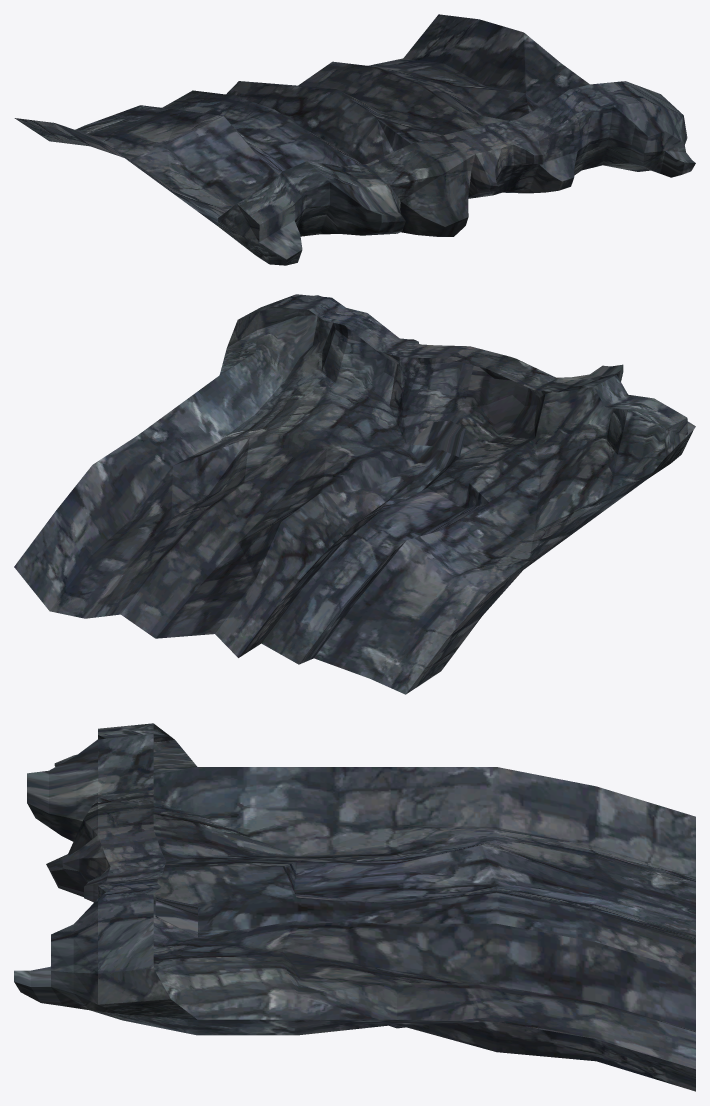
The model's file is juqing_fuben_286_rock_v02.obj.
3 views of the same model, one above another, from view 1: azimuth 30°, elevation 25°; view 2: azimuth 150°, elevation 25°; view 3: azimuth 270°, elevation 25° (orthographic). The views are drawn at different scales.
Parts seen in each view (by area): view 1: juqing_fuben_286_rock_v02; view 2: juqing_fuben_286_rock_v02; view 3: juqing_fuben_286_rock_v02.
Boxes of the visible parts, x1,y1,x2,y2 form: juqing_fuben_286_rock_v02: (14,14,695,265); juqing_fuben_286_rock_v02: (14,294,695,694); juqing_fuben_286_rock_v02: (14,723,695,1091).
Size of the model in its own units: 396 by 127 by 438.
1 material, 1 textured.
